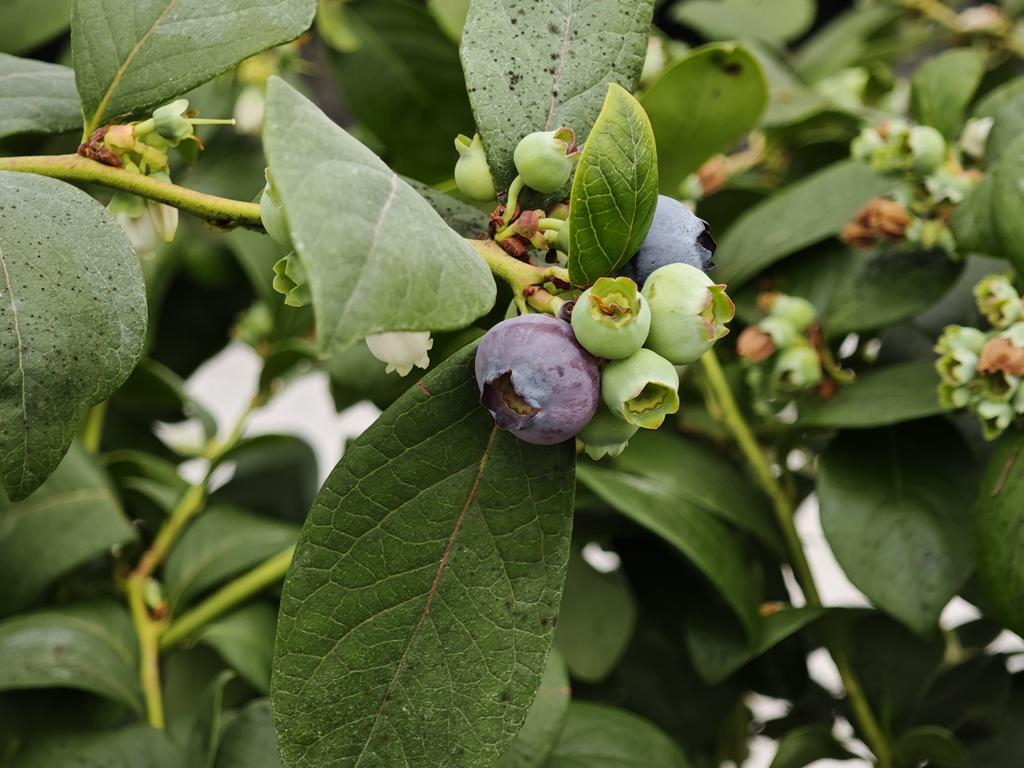RipeBlueBerry: (633, 193, 718, 283)
Semi-RipeBlueBerry: (471, 312, 597, 449)
UnripeBlueBerry: (642, 262, 736, 365)
